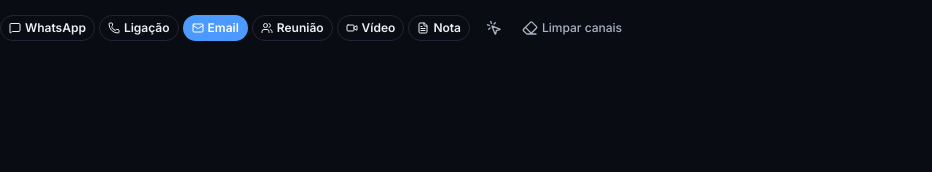
Scenario: CanaisQuickFilter › sincronização entre modo manual e estado aplicado pela URL › manual→auto: aplica pending e re-sincroniza chips com o novo safe via re-render
The image size is (932, 172).
Later steps or results of the test are not shown.
// Cria divergência: adiciona WhatsApp pendente.
Click the button titled "WhatsApp" at point(47, 28), box [0,15,95,41]
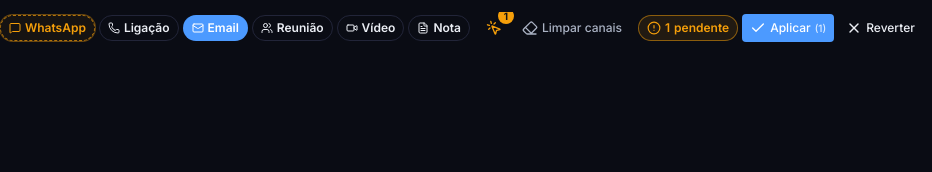
Check: the button "Aplicar (1)" is shown, box [742,14,834,42]
